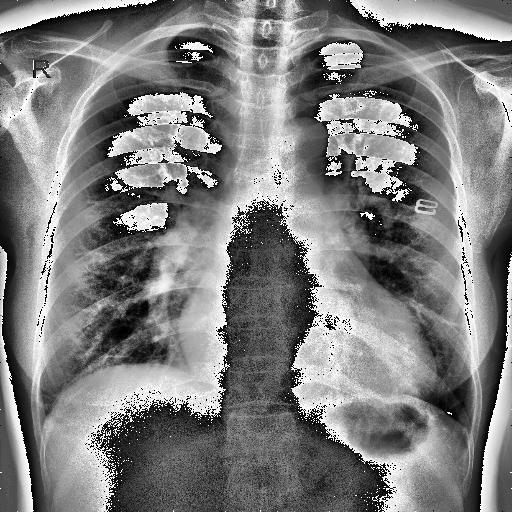0- Aortic enlargement: (264, 118, 326, 164)
13- Pulmonary fibrosis: (408, 300, 461, 328)
3- Cardiomegaly: (174, 296, 434, 418), (176, 298, 438, 416), (177, 294, 436, 400)
